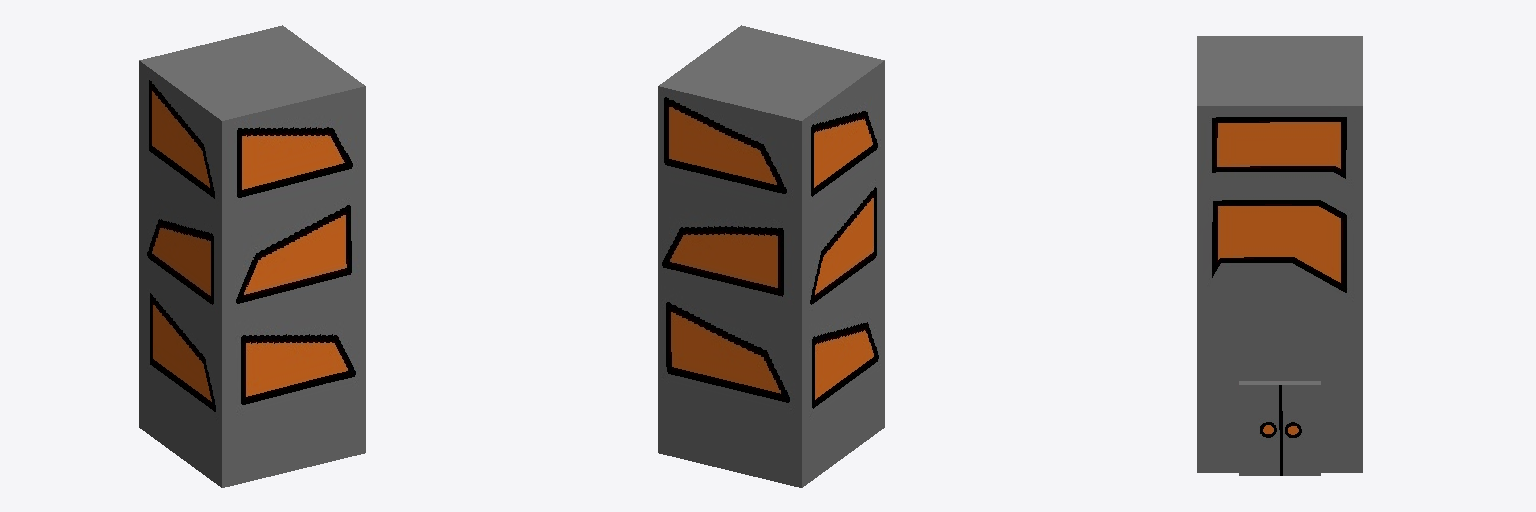
3 renders of one model, left to right at view 1: azimuth 30°, elevation 25°; view 2: azimuth 150°, elevation 25°; view 3: azimuth 270°, elevation 25°, orthographic.
Parts seen in each view (by area): view 1: Cube; view 2: Cube; view 3: Cube.
Boxes of the visible parts, x1,y1,x2,y2 form: Cube: [139, 25, 365, 487]; Cube: [658, 25, 884, 487]; Cube: [1197, 36, 1362, 475].
Bounding box in the file's own units: 2.1 × 4.89 × 2.
Materials: 1 (1 with a texture image).